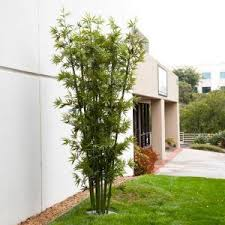bamboo: (45, 12, 144, 209)
